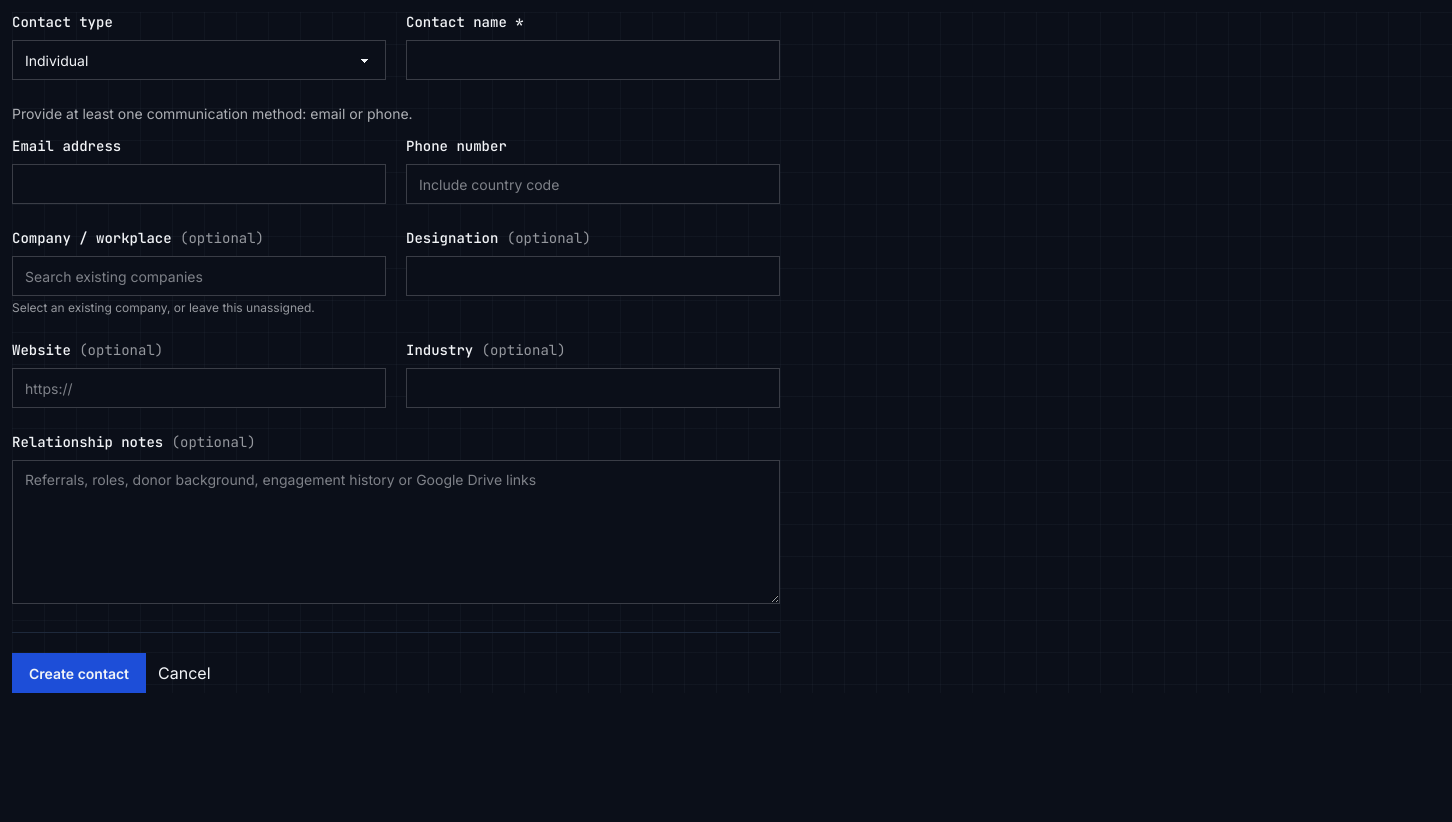
Test: contact form interactions › keeps entered values and displays server duplicate errors after a save race
In the field labelled "Contact name *": (593, 60) top-left (406, 40), bottom-right (780, 80), type "Fictional Preserved Form"
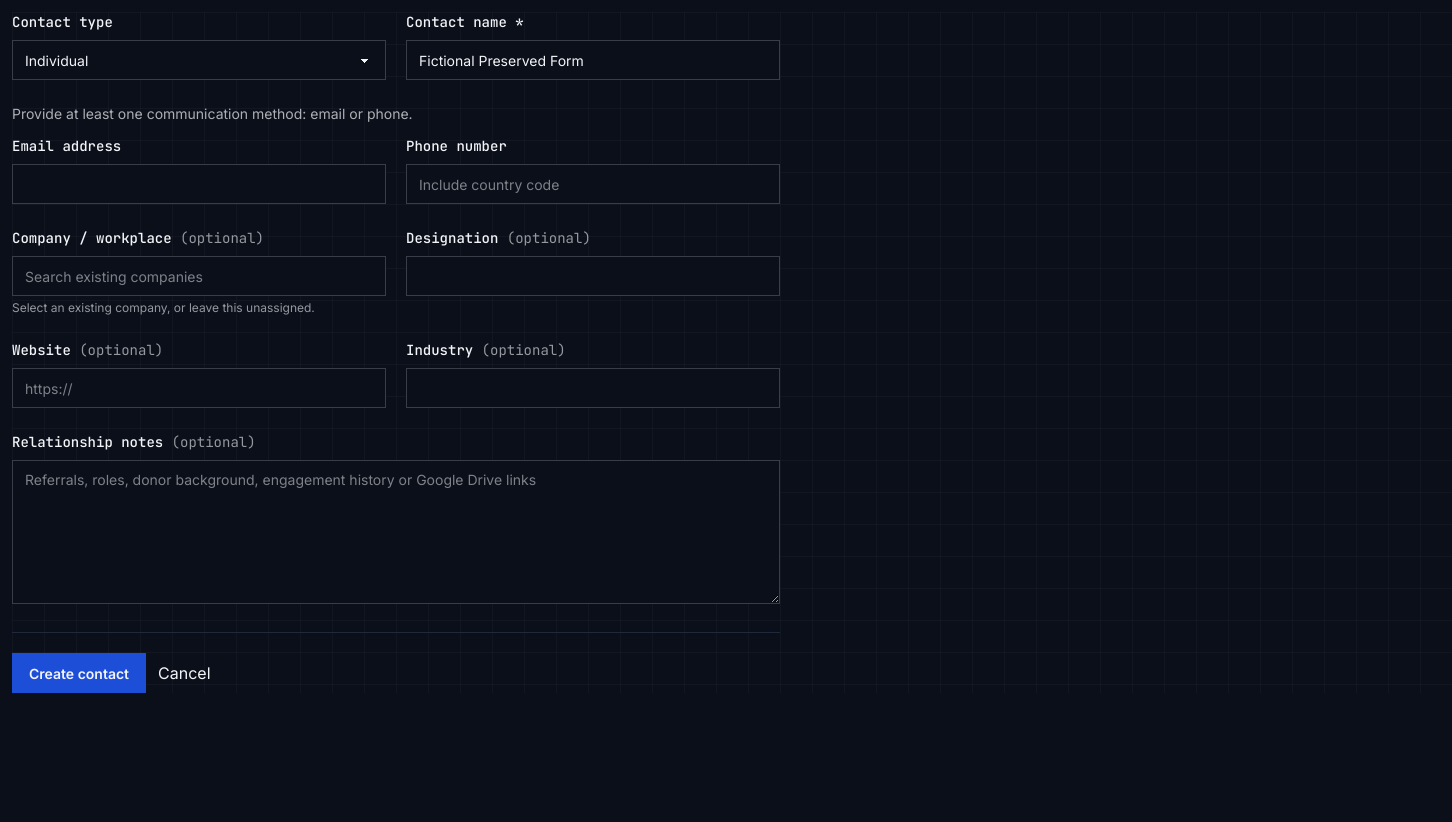
In the field labelled "Email address": (199, 184) top-left (12, 164), bottom-right (386, 204), type "race@example.invalid"
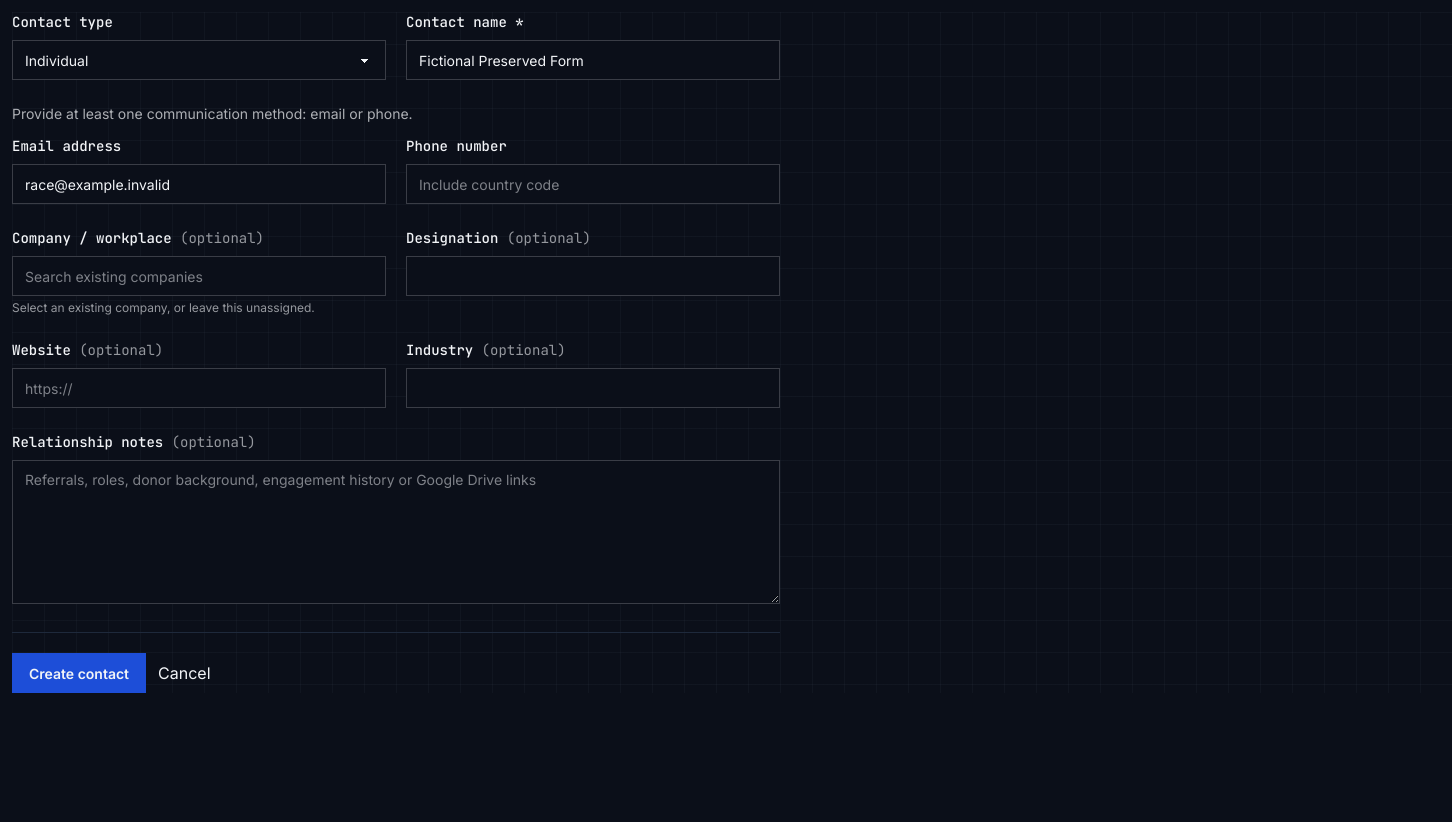
Replace the text in the text box labelled "Relationship notes (optional)" with "Keep these notes after an error": (396, 532) top-left (12, 460), bottom-right (780, 604)
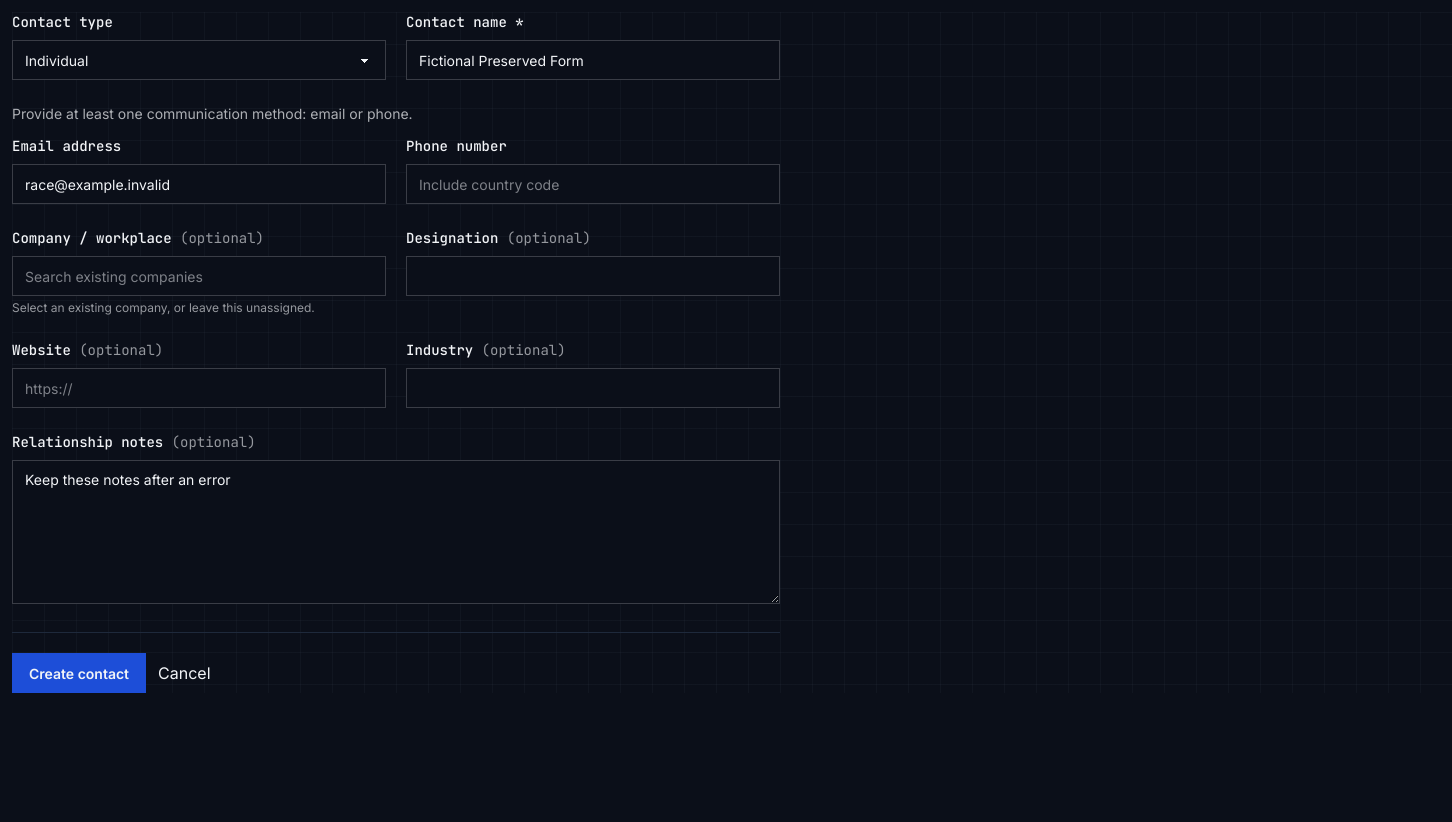
Click the button "Create contact": (79, 673) top-left (12, 653), bottom-right (146, 693)
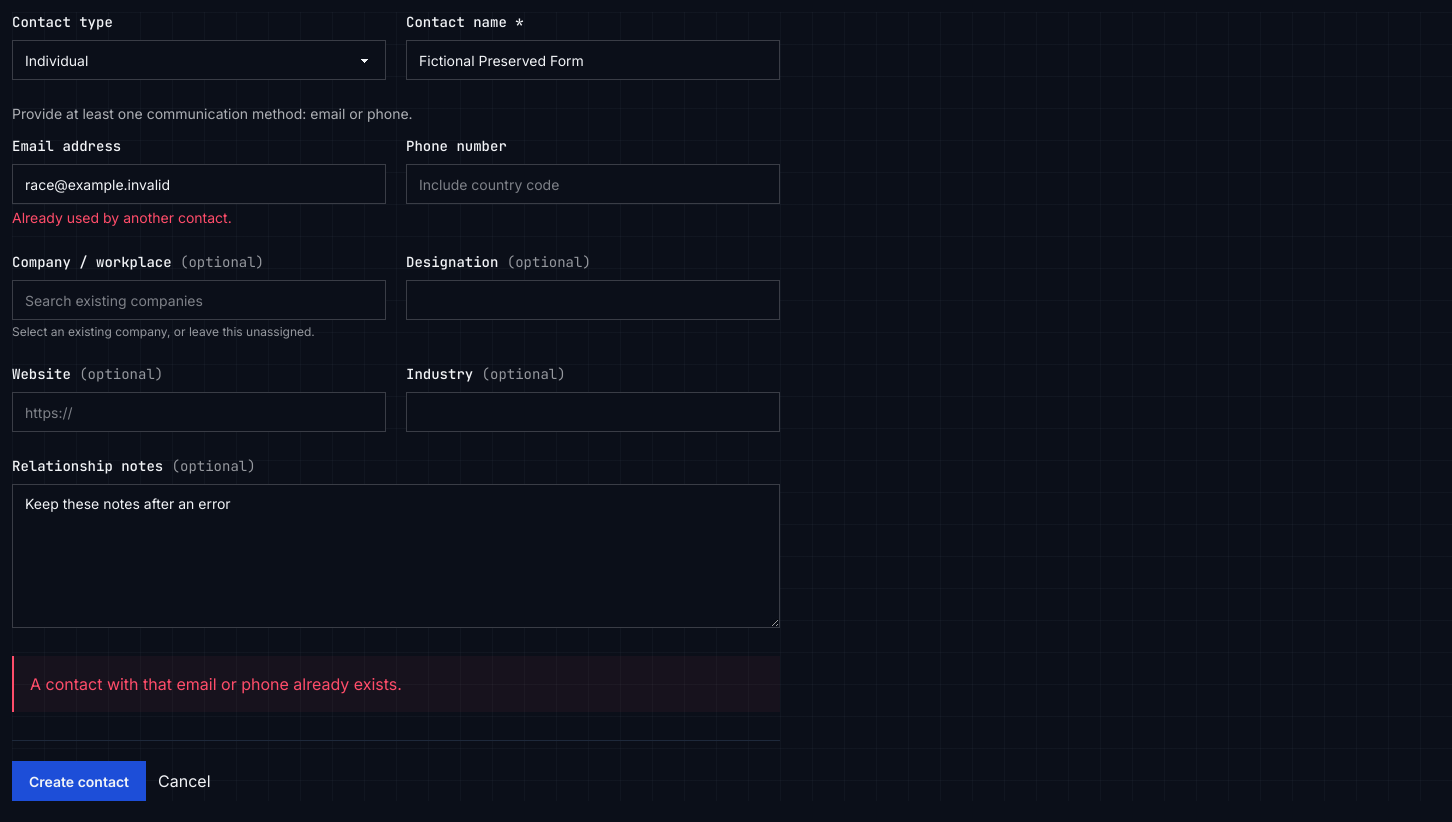
Check: the text "Already used by another contact." is shown, box top-left (12, 209), bottom-right (232, 226)
